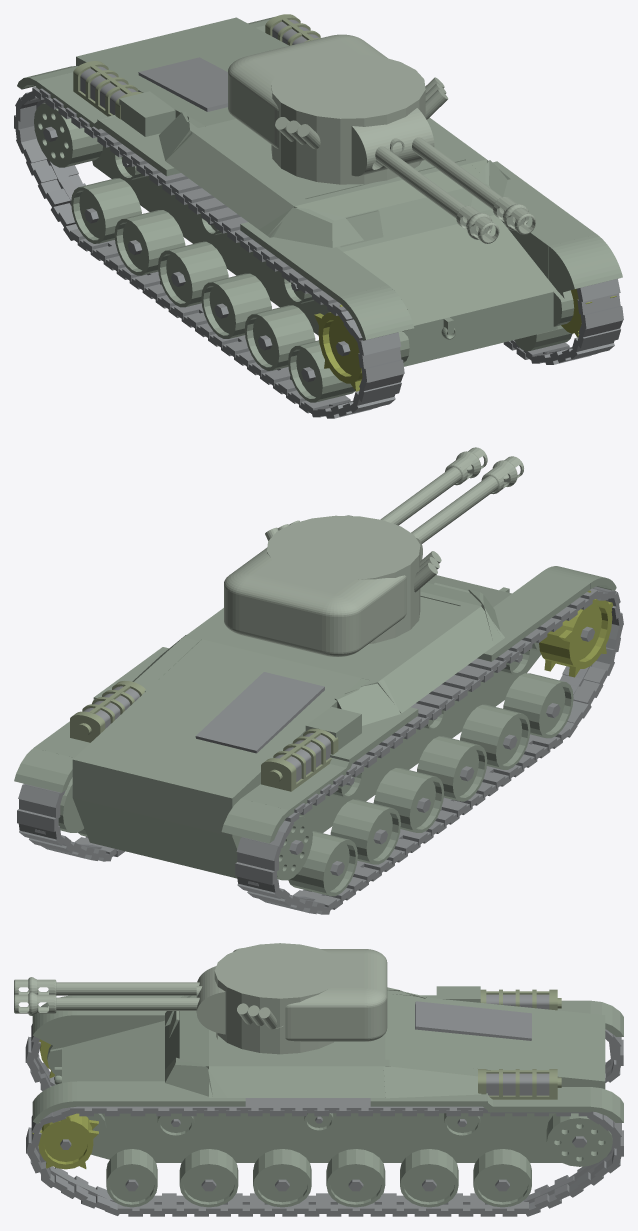
The model's file is Copy of Tank tank tank tank.glb.
3 views of the same model, one above another, from view 1: azimuth 30°, elevation 25°; view 2: azimuth 150°, elevation 25°; view 3: azimuth 270°, elevation 25° (orthographic). The views are drawn at different scales.
Parts seen in each view (by area): view 1: Mesh_Mesh_head_geo.001_lambert2SG.001; view 2: Mesh_Mesh_head_geo.001_lambert2SG.001; view 3: Mesh_Mesh_head_geo.001_lambert2SG.001.
Part boxes in pixels (x1,y1,x2,y2): Mesh_Mesh_head_geo.001_lambert2SG.001: (14, 14, 623, 418); Mesh_Mesh_head_geo.001_lambert2SG.001: (14, 447, 623, 914); Mesh_Mesh_head_geo.001_lambert2SG.001: (14, 943, 623, 1216).
Bounding box in the file's own units: 0.0581 × 0.049 × 0.1395.
